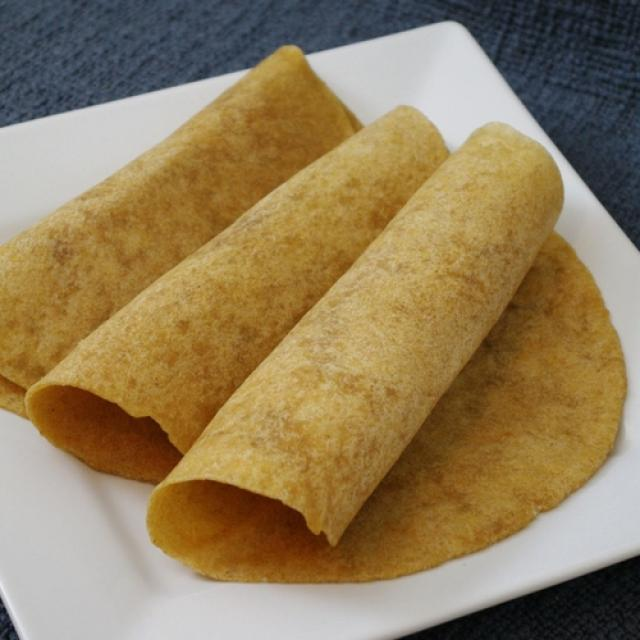面包点心: (26, 50, 580, 572)
